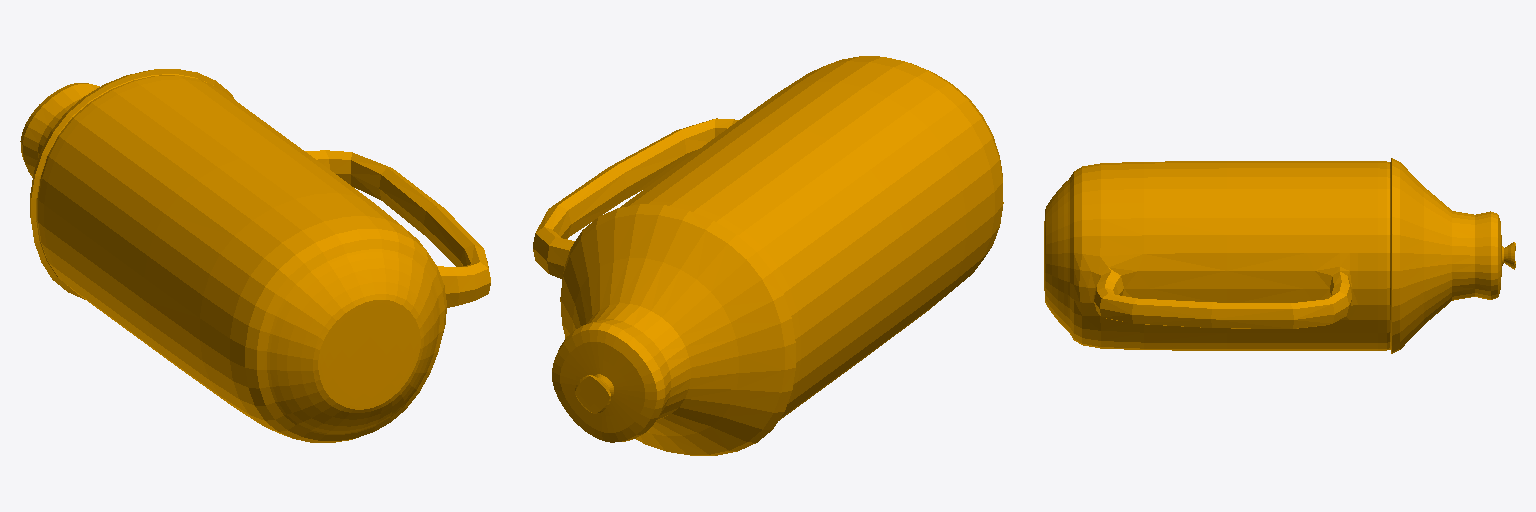
robot.urdf — 173:
<?xml version="1.0" ?>
<robot name="173">
  <link name="body">
    <visual>
      <geometry>
        <mesh filename="../shapes/173.obj"/>
      </geometry>
    </visual>
    <collision>
      <geometry>
        <mesh filename="../shapes/173.obj"/>
      </geometry>
    </collision>
  </link>
</robot>

--- Render facts (derived) ---
The picture shows the robot from 3 angles, left to right: view 1: azimuth 30°, elevation 25°; view 2: azimuth 150°, elevation 25°; view 3: azimuth 270°, elevation 25°; orthographic projection.
Robot: 173 — 1 links, 0 joints (none); root link body; default pose: all joints at 0.
Links seen in each view (by area): view 1: body; view 2: body; view 3: body.
Boxes of the visible links, box(x1,y1,x2,y2) form: body: box(20, 69, 490, 442); body: box(533, 56, 1003, 455); body: box(1044, 158, 1515, 353).
Size in the robot's own frame: 3.42 by 6.15 by 2.51 metres.
1 mesh visuals loaded from 1 distinct referenced files (1 OBJ).